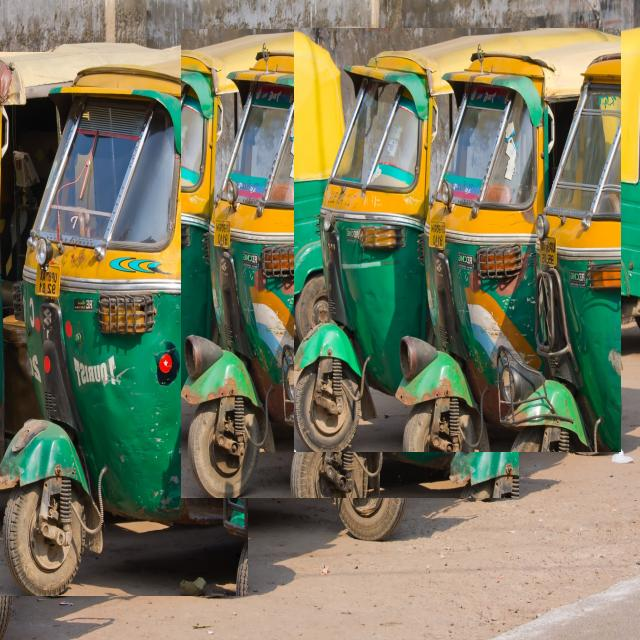autorickshaw: (73, 45, 418, 540), (181, 30, 519, 498), (294, 28, 621, 452), (0, 53, 248, 596), (570, 28, 640, 339)
